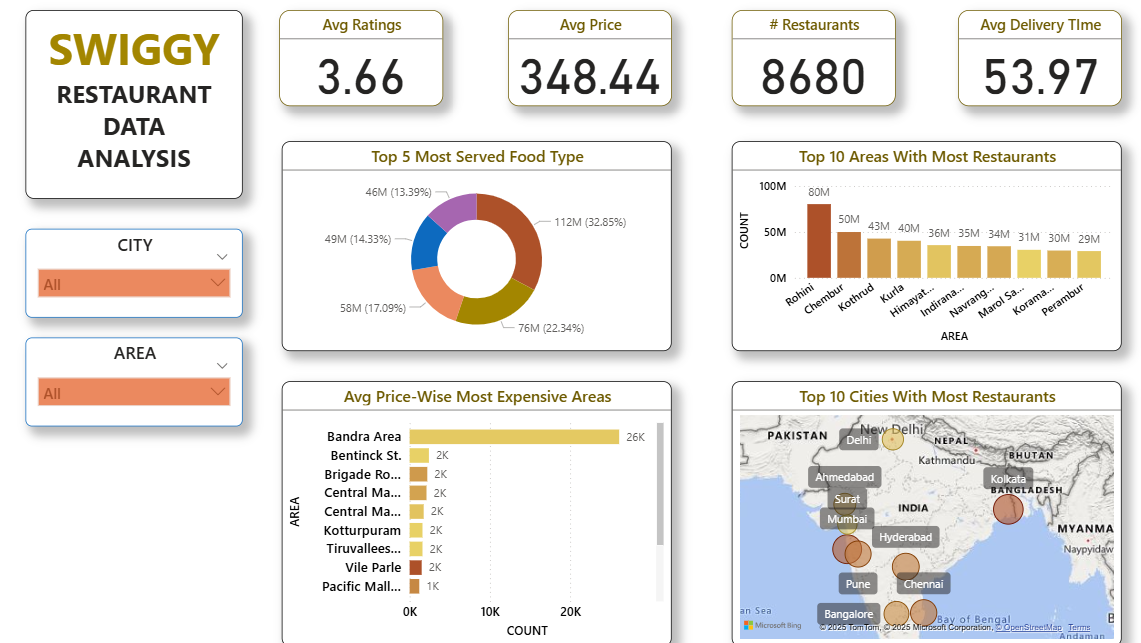

What the dashboard file says about the page in this screenshot:
{"tool":"powerbi","page":{"name":"Page 1","canvas":[1280,720],"ordinal":0},"visuals":[{"type":"card","title":"Avg Ratings","fields":{"Values":["Avg(swiggy (2).Avg ratings)"]},"box":[325.2,22,179.8,105.7],"z":0},{"type":"card","title":"Avg Price","fields":{"Values":["Avg(swiggy (2).Price)"]},"box":[576.3,22,179.8,105.7],"z":1000},{"type":"card","title":"# Restaurants","fields":{"Values":["Count(swiggy (2). NO)"]},"box":[822,22,179.8,105.7],"z":2000},{"type":"card","title":"Avg Delivery TIme","fields":{"Values":["Avg(swiggy (2).Delivery time)"]},"box":[1070.3,22,179.8,105.7],"z":3000},{"type":"columnChart","title":"Top 10 Areas With Most Restaurants","fields":{"Category":["swiggy (2).Area"],"Y":["Sum(swiggy (2). NO)"]},"box":[822,166,428.1,230.5],"z":4000},{"type":"donutChart","title":"Top 5 Most Served Food Type","fields":{"Category":["swiggy (2).Food type"],"Y":["Sum(swiggy (2). NO)"]},"box":[328,166,428.1,230.5],"z":5000},{"type":"map","title":"Top 10 Cities With Most Restaurants","fields":{"Category":["swiggy (2).City"],"Size":["Sum(swiggy (2). NO)"]},"box":[822,429.5,428.1,290.9],"z":6000},{"type":"clusteredBarChart","title":"Avg Price-Wise Most Expensive Areas","fields":{"Category":["swiggy (2).Area"],"Y":["Sum(swiggy (2).Price)"]},"box":[328,429.5,428.1,290.9],"z":7000},{"type":"textbox","box":[46.7,22,238.8,207.2],"z":8000},{"type":"slicer","title":"CITY","fields":{"Values":["swiggy (2).City"]},"box":[46.7,262.1,238.8,97.4],"z":9000},{"type":"slicer","title":"AREA","fields":{"Values":["swiggy (2).Area"]},"box":[46.7,381.5,238.8,97.4],"z":10000}]}

Visuals, with their boxes in screenshot pixels (x1, y1, x2, y2), scaled from the page's 1280x720 canvas onto the 1141x643 screenshot:
"Avg Ratings" card: crop(290, 20, 450, 114)
"Avg Price" card: crop(514, 20, 674, 114)
"# Restaurants" card: crop(733, 20, 893, 114)
"Avg Delivery TIme" card: crop(954, 20, 1114, 114)
"Top 10 Areas With Most Restaurants" columnChart: crop(733, 148, 1114, 354)
"Top 5 Most Served Food Type" donutChart: crop(292, 148, 674, 354)
"Top 10 Cities With Most Restaurants" map: crop(733, 384, 1114, 642)
"Avg Price-Wise Most Expensive Areas" clusteredBarChart: crop(292, 384, 674, 642)
textbox: crop(42, 20, 254, 205)
"CITY" slicer: crop(42, 234, 254, 321)
"AREA" slicer: crop(42, 341, 254, 428)
